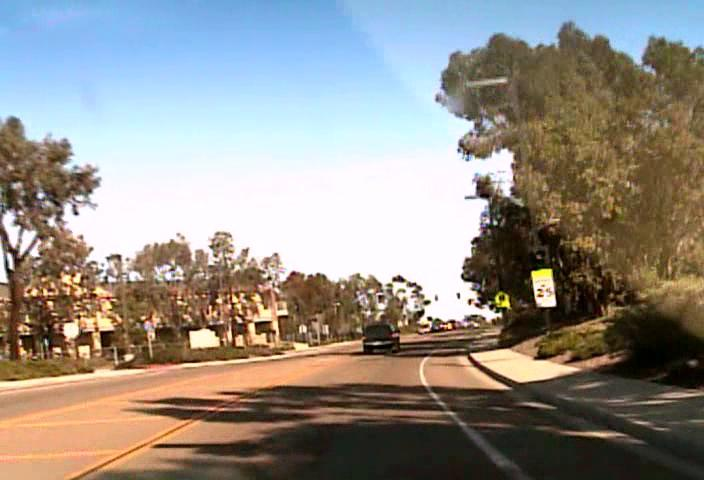schoolSpeedLimit25: (531, 268, 557, 307)
